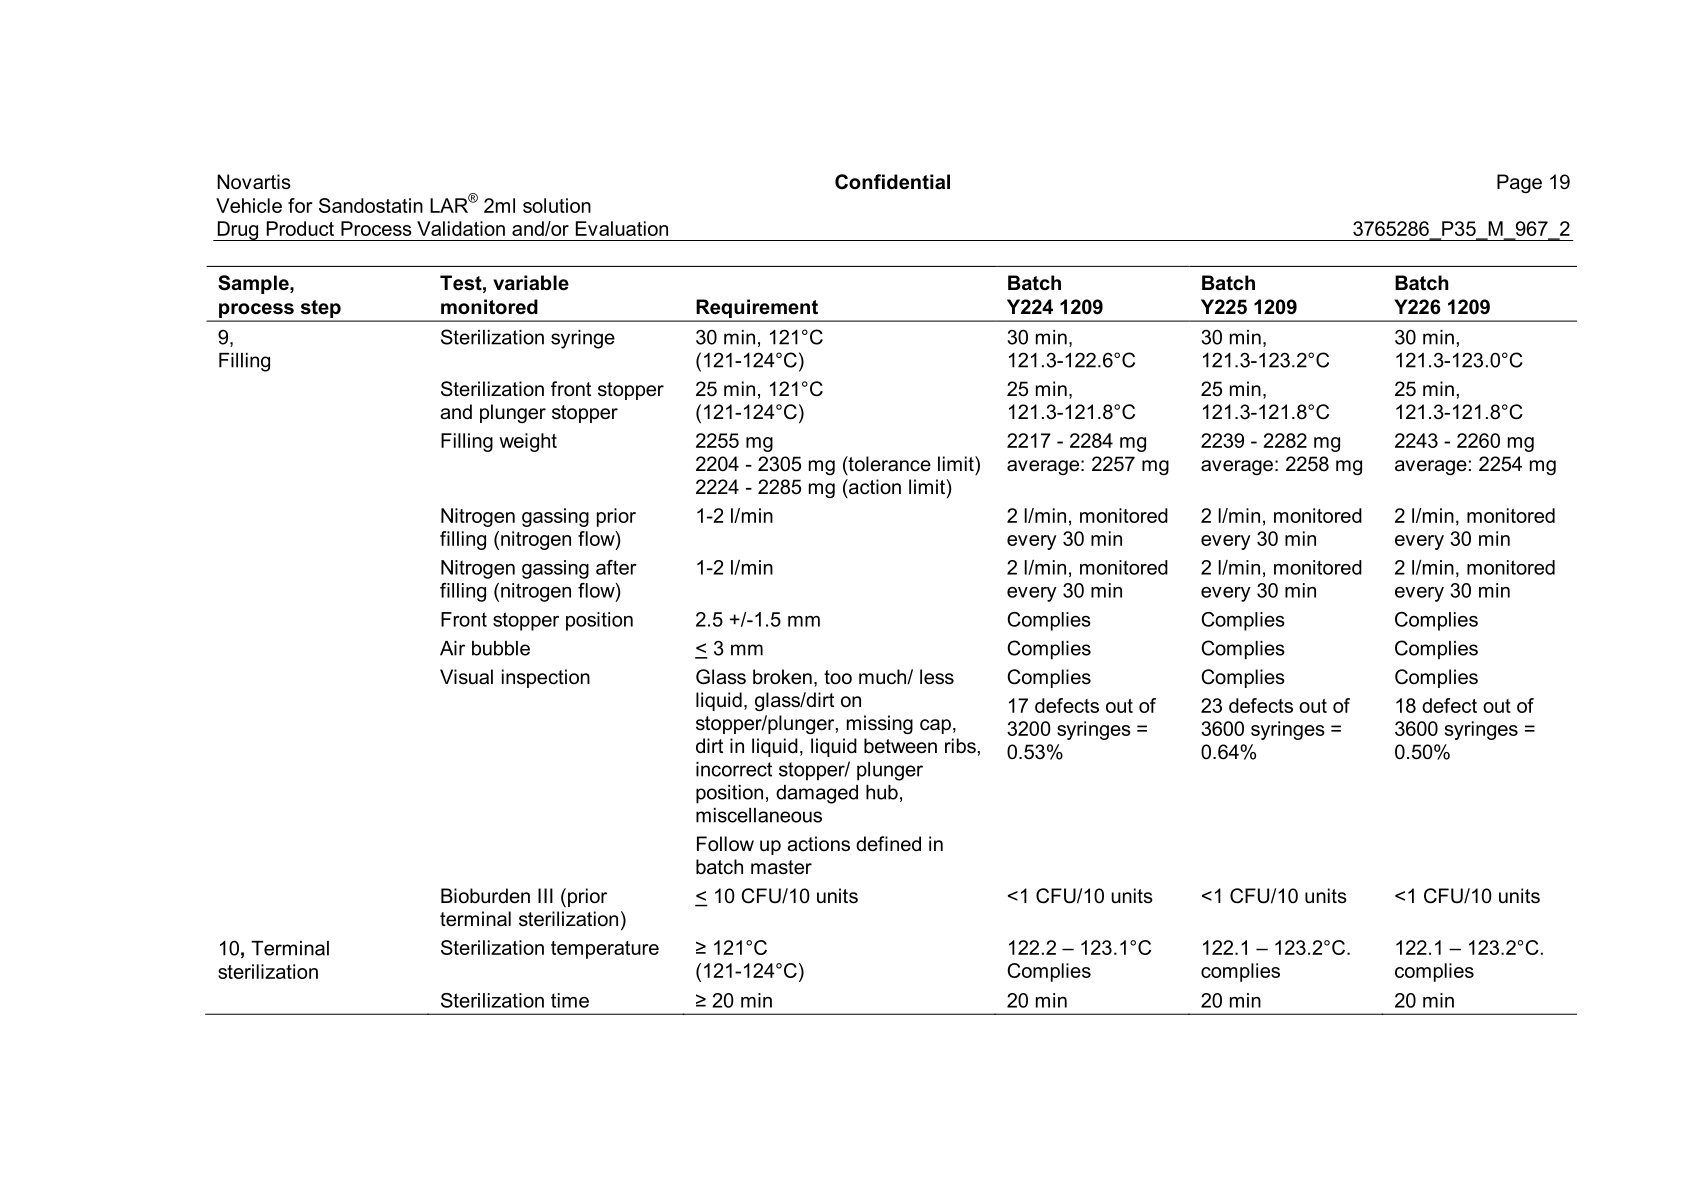partial_lined: (203, 267, 1578, 1015)
